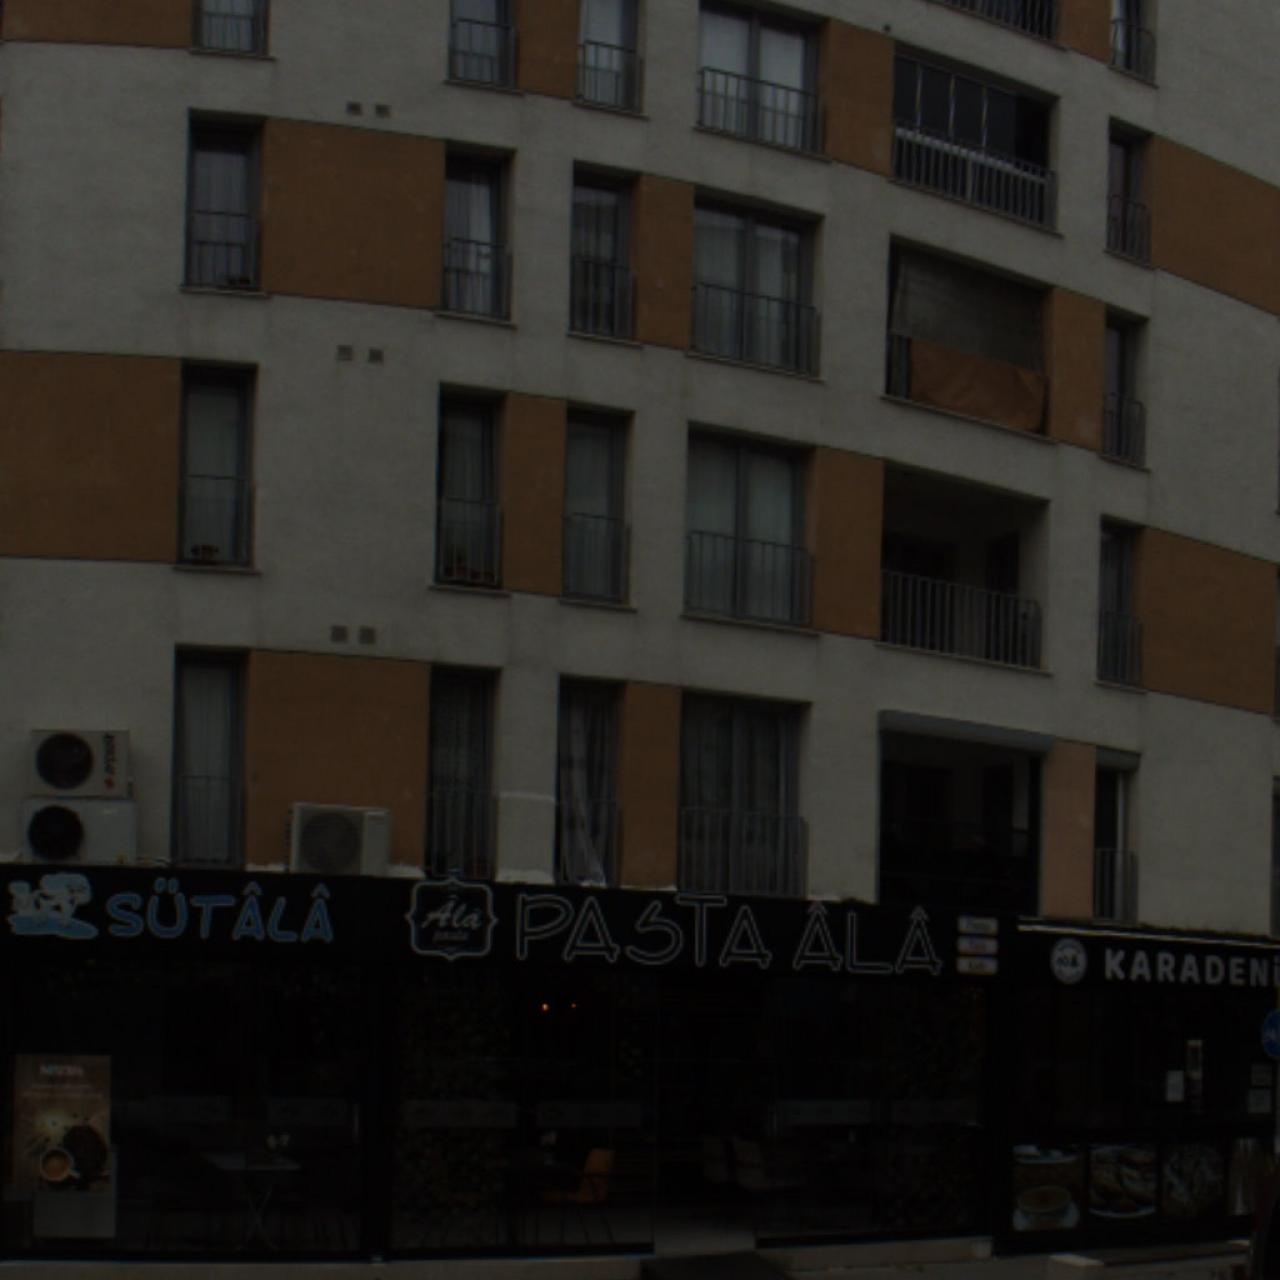SignStore: (386, 878, 1013, 989), (12, 863, 381, 962), (1016, 917, 1276, 995)
